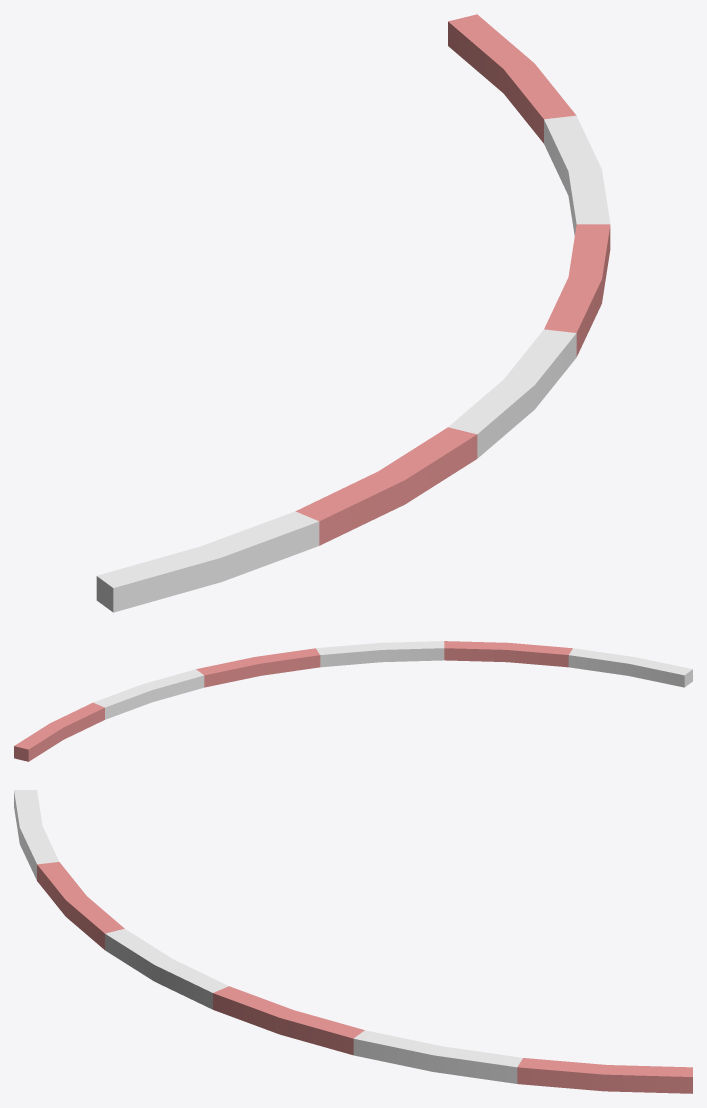
File: roadCornerLargerWallInner.gltf
The picture shows the model from 3 angles, top to bottom: view 1: azimuth 30°, elevation 25°; view 2: azimuth 150°, elevation 25°; view 3: azimuth 270°, elevation 25°; orthographic projection. The views are drawn at different scales.
Parts seen in each view (by area): view 1: roadCornerLargerWallInner; view 2: roadCornerLargerWallInner; view 3: roadCornerLargerWallInner.
Part boxes in pixels (bbox=[...]): roadCornerLargerWallInner: bbox=[96, 14, 610, 612]; roadCornerLargerWallInner: bbox=[14, 641, 692, 761]; roadCornerLargerWallInner: bbox=[14, 790, 692, 1093].
Size of the model in its own units: 14.7 by 0.4 by 14.7.
